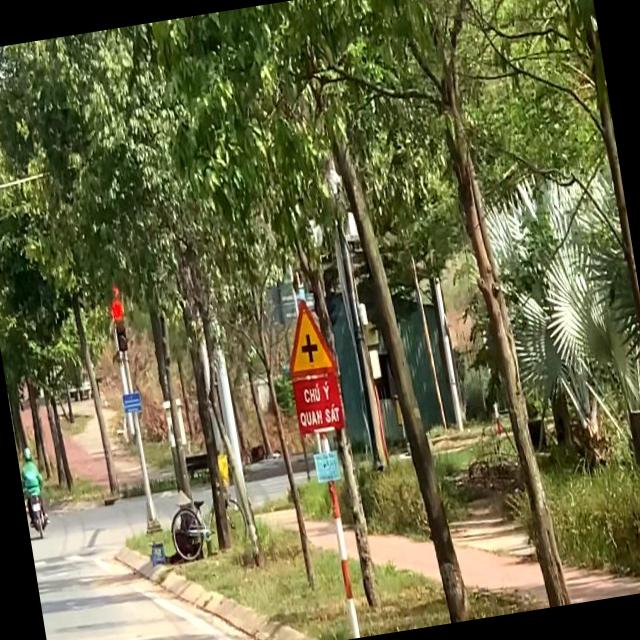W-205a: (279, 299, 338, 381)
